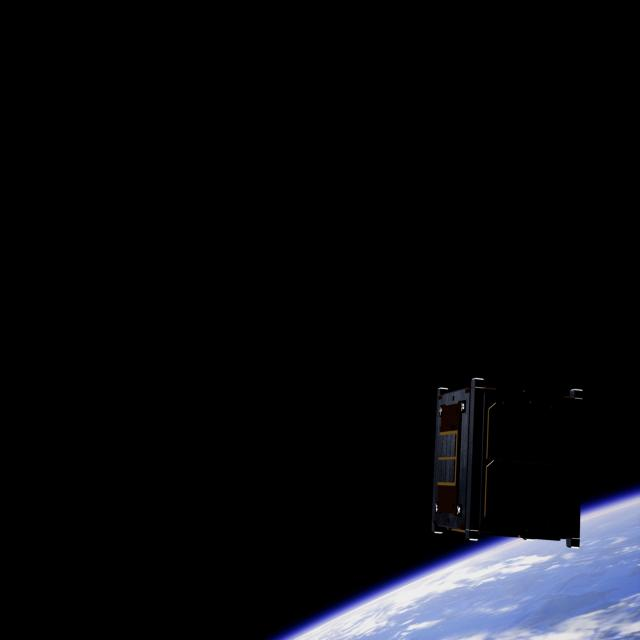medium_debris: (432, 372, 594, 548)
